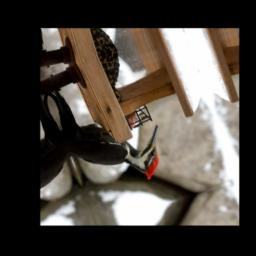Woodpecker: (46, 59, 177, 206)
